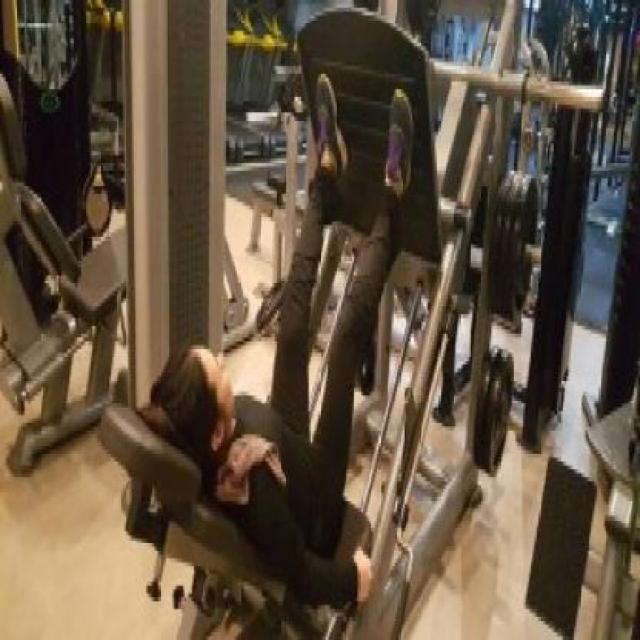leg press: (83, 0, 611, 637)
